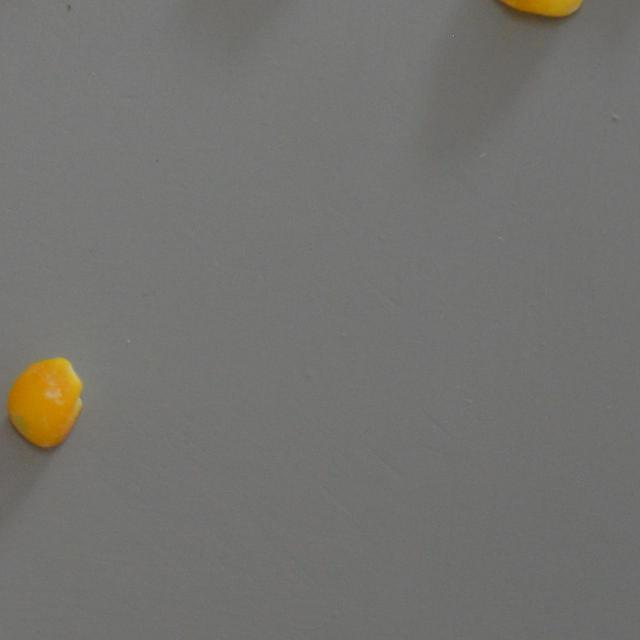no_canjicado: (6, 356, 84, 450), (492, 0, 586, 16)
